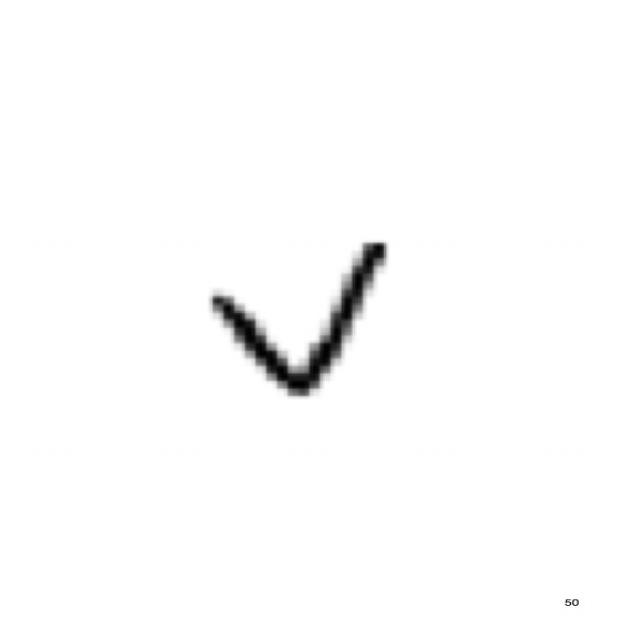7 -seven-: (204, 240, 401, 400)
